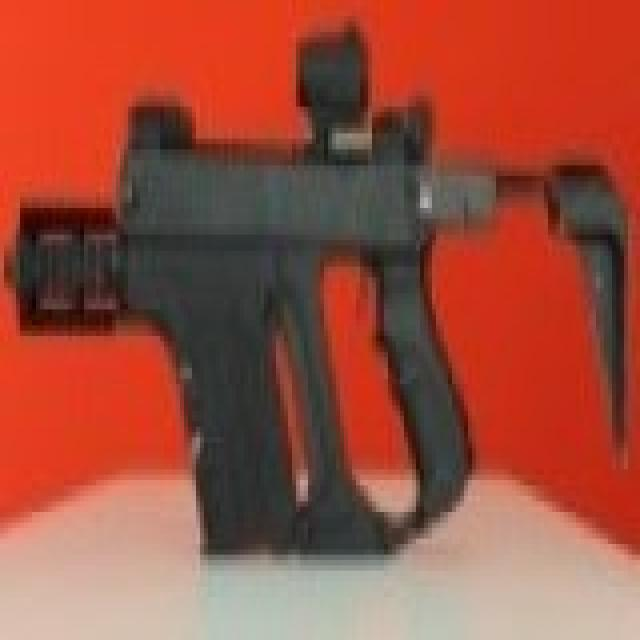Gun: (10, 36, 634, 592)
